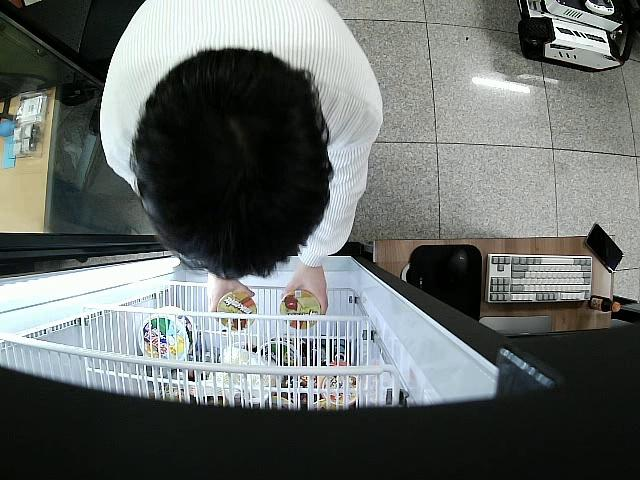00_hand: (288, 270, 332, 320), (209, 278, 255, 314)
04_chapagetti_S: (280, 289, 320, 328), (220, 291, 259, 330)
